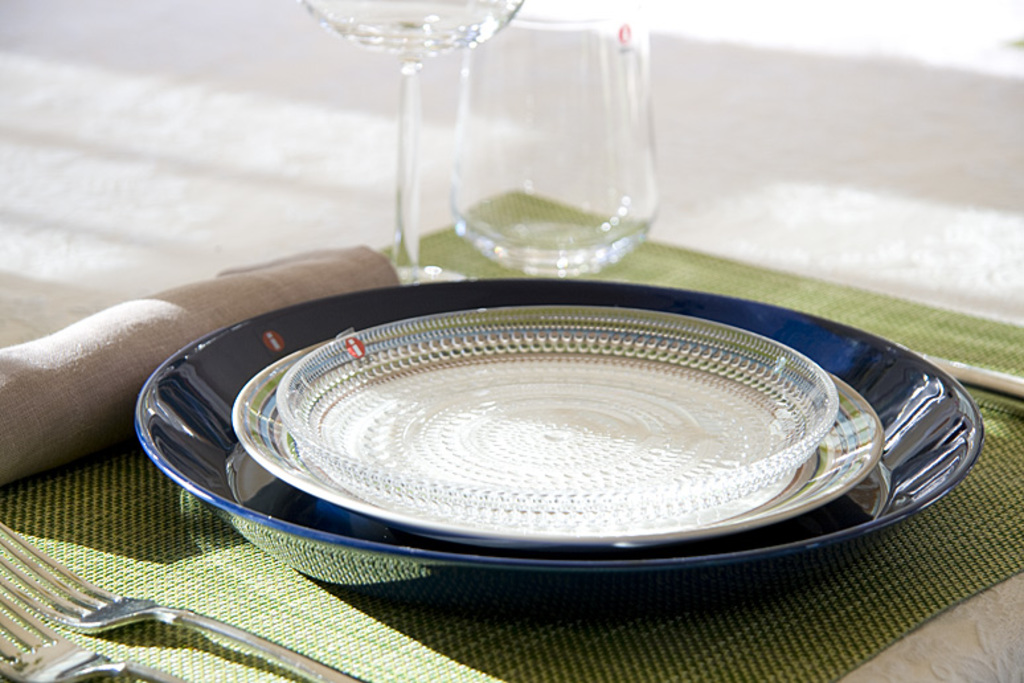plate: (269, 295, 838, 529)
